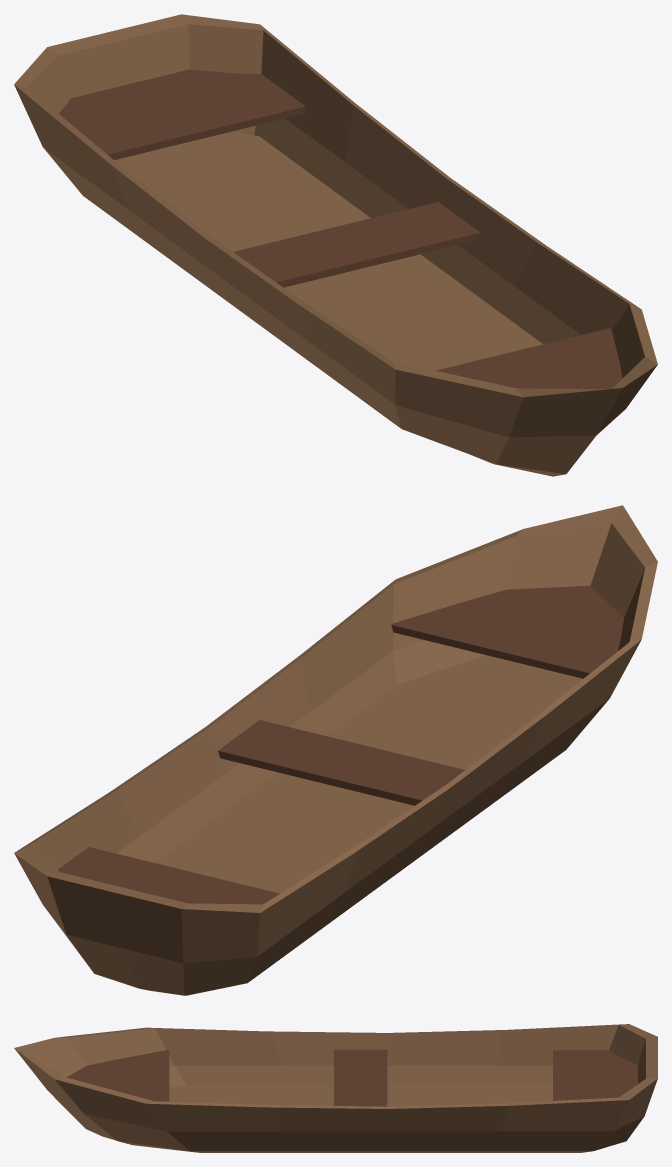
The model's file is Boat Destruction.fbx.
3 renders of one model, top to bottom at view 1: azimuth 30°, elevation 25°; view 2: azimuth 150°, elevation 25°; view 3: azimuth 270°, elevation 25°, orthographic. The views are drawn at different scales.
Visible parts, largest first — view 1: Ship_5_2_1_25.002, Ship_5_2_2_7.002, Ship_5_2_2_6.002, Ship_5_2_2_27.002, Ship_5_2_2_22.002, Ship_5_2_1_24.002, Ship_5_2_2_29.002, Ship_5_2_2_25.002, Ship_5_2_2_23.002, Ship_5_2_2_18.002, Ship_5_2_1_7.002, Ship_5_2_2_26.002 (+11 smaller); view 2: Ship_5_2_1_8.002, Ship_5_2_1_7.002, Ship_5_2_2_28.002, Ship_5_2_2_6.002, Ship_5_2_1_24.002, Ship_5_2_2_25.002, Ship_5_2_2_29.002, Ship_5_2_2_20.002, Ship_5_2_1_20.002, Ship_5_2_2_7.002, Ship_5_2_2_26.002, Ship_5_2_2_23.002 (+11 smaller); view 3: Ship_5_2_1_23.002, Ship_5_2_2_24.002, Ship_5_2_2_27.002, Ship_5_2_1_8.002, Ship_5_2_1_24.002, Ship_5_2_2_25.002, Ship_5_2_2_23.002, Ship_5_2_2_26.002, Ship_5_2_1_25.002, Ship_5_2_2_36.002, Ship_5_2_2_7.002, Ship_5_2_1_7.002 (+9 smaller).
Boxes of the visible parts, left/top/right/bottom form: Ship_5_2_1_25.002: left=393, top=362, right=622, bottom=474; Ship_5_2_2_7.002: left=59, top=69, right=305, bottom=159; Ship_5_2_2_6.002: left=233, top=202, right=480, bottom=287; Ship_5_2_2_27.002: left=254, top=25, right=355, bottom=191; Ship_5_2_2_22.002: left=158, top=131, right=339, bottom=216; Ship_5_2_1_24.002: left=496, top=243, right=640, bottom=344; Ship_5_2_2_29.002: left=114, top=14, right=263, bottom=134; Ship_5_2_2_25.002: left=335, top=103, right=450, bottom=217; Ship_5_2_2_23.002: left=421, top=178, right=545, bottom=309; Ship_5_2_2_18.002: left=331, top=254, right=497, bottom=333; Ship_5_2_1_7.002: left=436, top=328, right=622, bottom=389; Ship_5_2_2_26.002: left=14, top=84, right=161, bottom=253; Ship_5_2_1_8.002: left=393, top=505, right=622, bottom=684; Ship_5_2_1_7.002: left=391, top=585, right=623, bottom=678; Ship_5_2_2_28.002: left=114, top=888, right=263, bottom=995; Ship_5_2_2_6.002: left=218, top=720, right=464, bottom=805; Ship_5_2_1_24.002: left=300, top=580, right=396, bottom=736; Ship_5_2_2_25.002: left=110, top=727, right=235, bottom=861; Ship_5_2_2_29.002: left=14, top=847, right=138, bottom=988; Ship_5_2_2_20.002: left=160, top=800, right=328, bottom=880; Ship_5_2_1_20.002: left=327, top=684, right=487, bottom=757; Ship_5_2_2_7.002: left=57, top=847, right=279, bottom=904; Ship_5_2_2_26.002: left=248, top=846, right=355, bottom=982; Ship_5_2_2_23.002: left=205, top=655, right=313, bottom=802; Ship_5_2_1_23.002: left=148, top=1027, right=287, bottom=1084; Ship_5_2_2_24.002: left=387, top=1030, right=505, bottom=1084; Ship_5_2_2_27.002: left=493, top=1097, right=628, bottom=1151; Ship_5_2_1_8.002: left=14, top=1048, right=189, bottom=1151; Ship_5_2_1_24.002: left=146, top=1101, right=290, bottom=1151; Ship_5_2_2_25.002: left=387, top=1103, right=508, bottom=1151; Ship_5_2_2_23.002: left=267, top=1105, right=391, bottom=1151; Ship_5_2_2_26.002: left=492, top=1024, right=626, bottom=1084; Ship_5_2_1_25.002: left=14, top=1027, right=185, bottom=1087; Ship_5_2_2_36.002: left=267, top=1031, right=390, bottom=1084; Ship_5_2_2_7.002: left=553, top=1050, right=637, bottom=1100; Ship_5_2_1_7.002: left=67, top=1050, right=169, bottom=1101.
Bounding box in the file's own units: 2.45 × 1.39 × 8.78.
